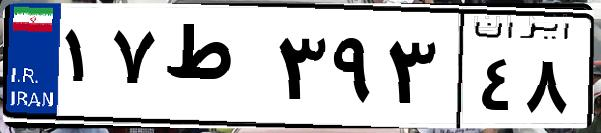1: (57, 26, 110, 100)
3: (270, 28, 330, 110), (385, 28, 445, 110)
4: (475, 38, 525, 113)
7: (110, 28, 158, 98)
8: (525, 38, 570, 115)
9: (330, 28, 385, 110)
ط: (158, 20, 270, 120)
